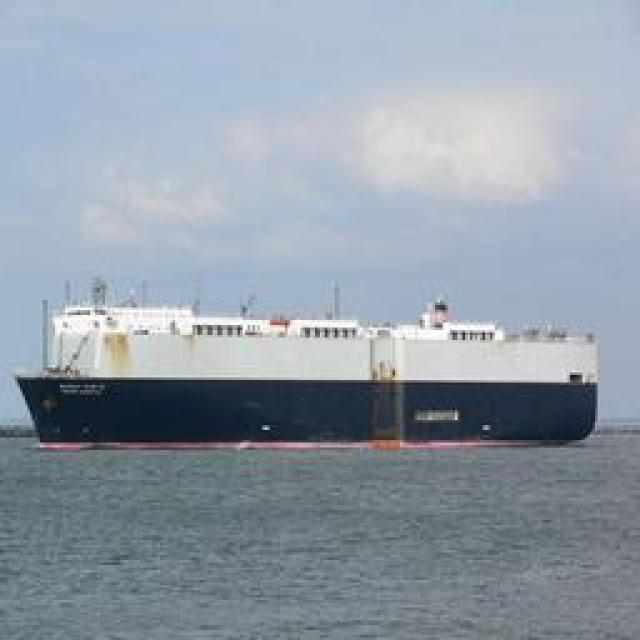CIV_Ship: (14, 292, 618, 450)
